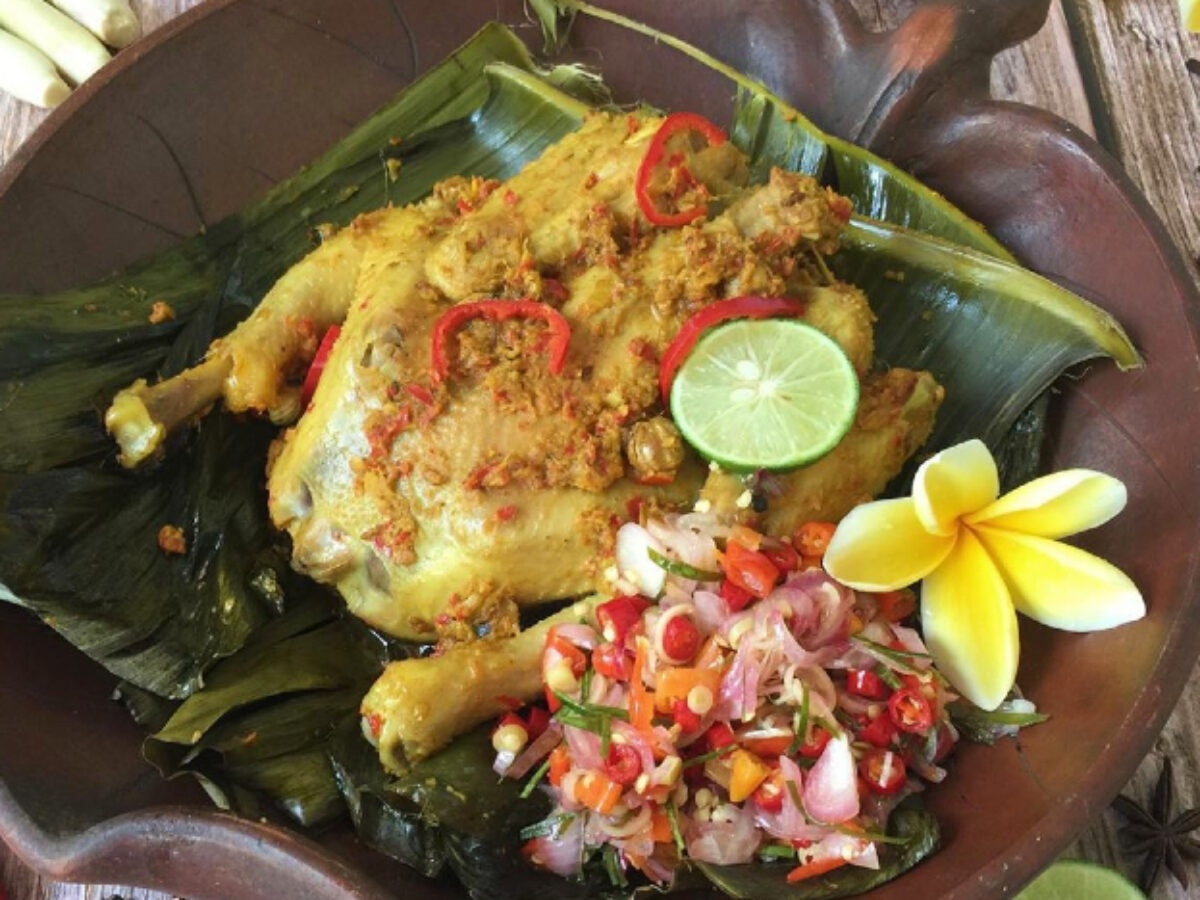ayam_betutu: (102, 116, 821, 869)
